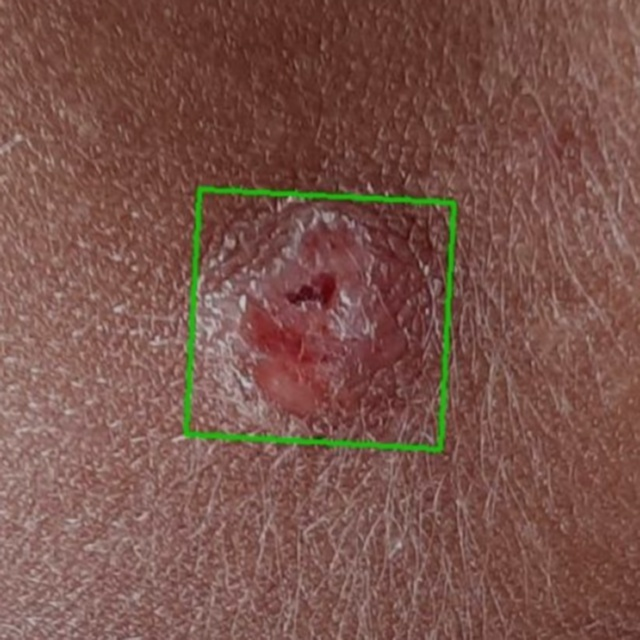Contact Dermatitis: (185, 188, 453, 449)
